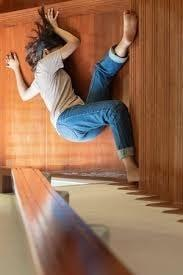fall: (12, 0, 131, 198)
